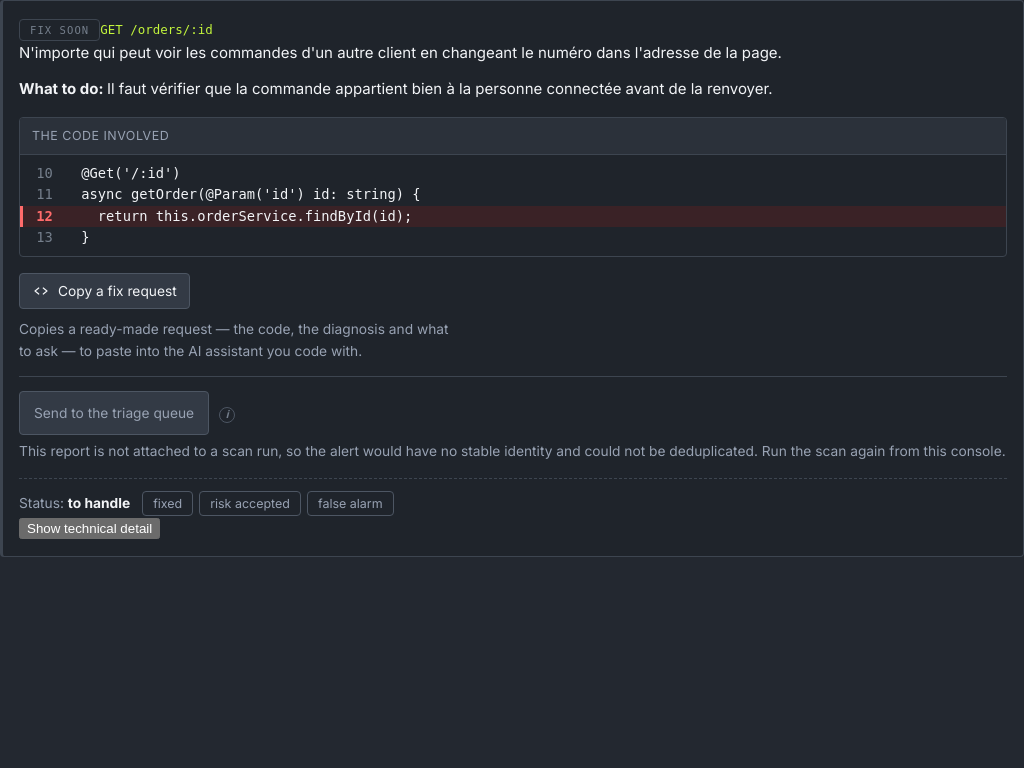
Test: ReportView › garde le détail technique REPLIÉ par défaut, et accessible au clic
Expected: the text "findById(id) sans filtre userId" is not shown
Expected: the text "order.controller.ts" is not shown
Click the button "Show technical detail" at (90, 528), box x1=19 y1=518 x2=160 y2=539
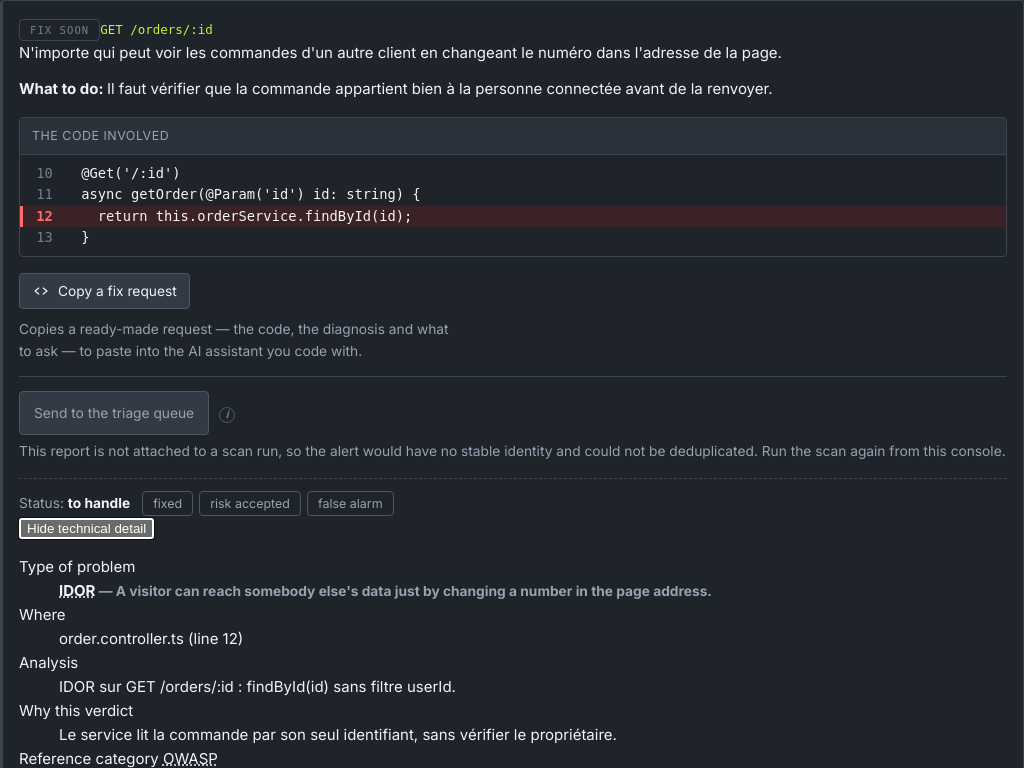
Now the text "IDOR sur GET /orders/:id : findById(id) sans filtre userId." is shown, box x1=59 y1=677 x2=456 y2=696
Now the text "order.controller.ts (line 12)" is shown, box x1=59 y1=629 x2=243 y2=648
Now the button named "Show technical detail" is expanded, box x1=19 y1=518 x2=154 y2=539
